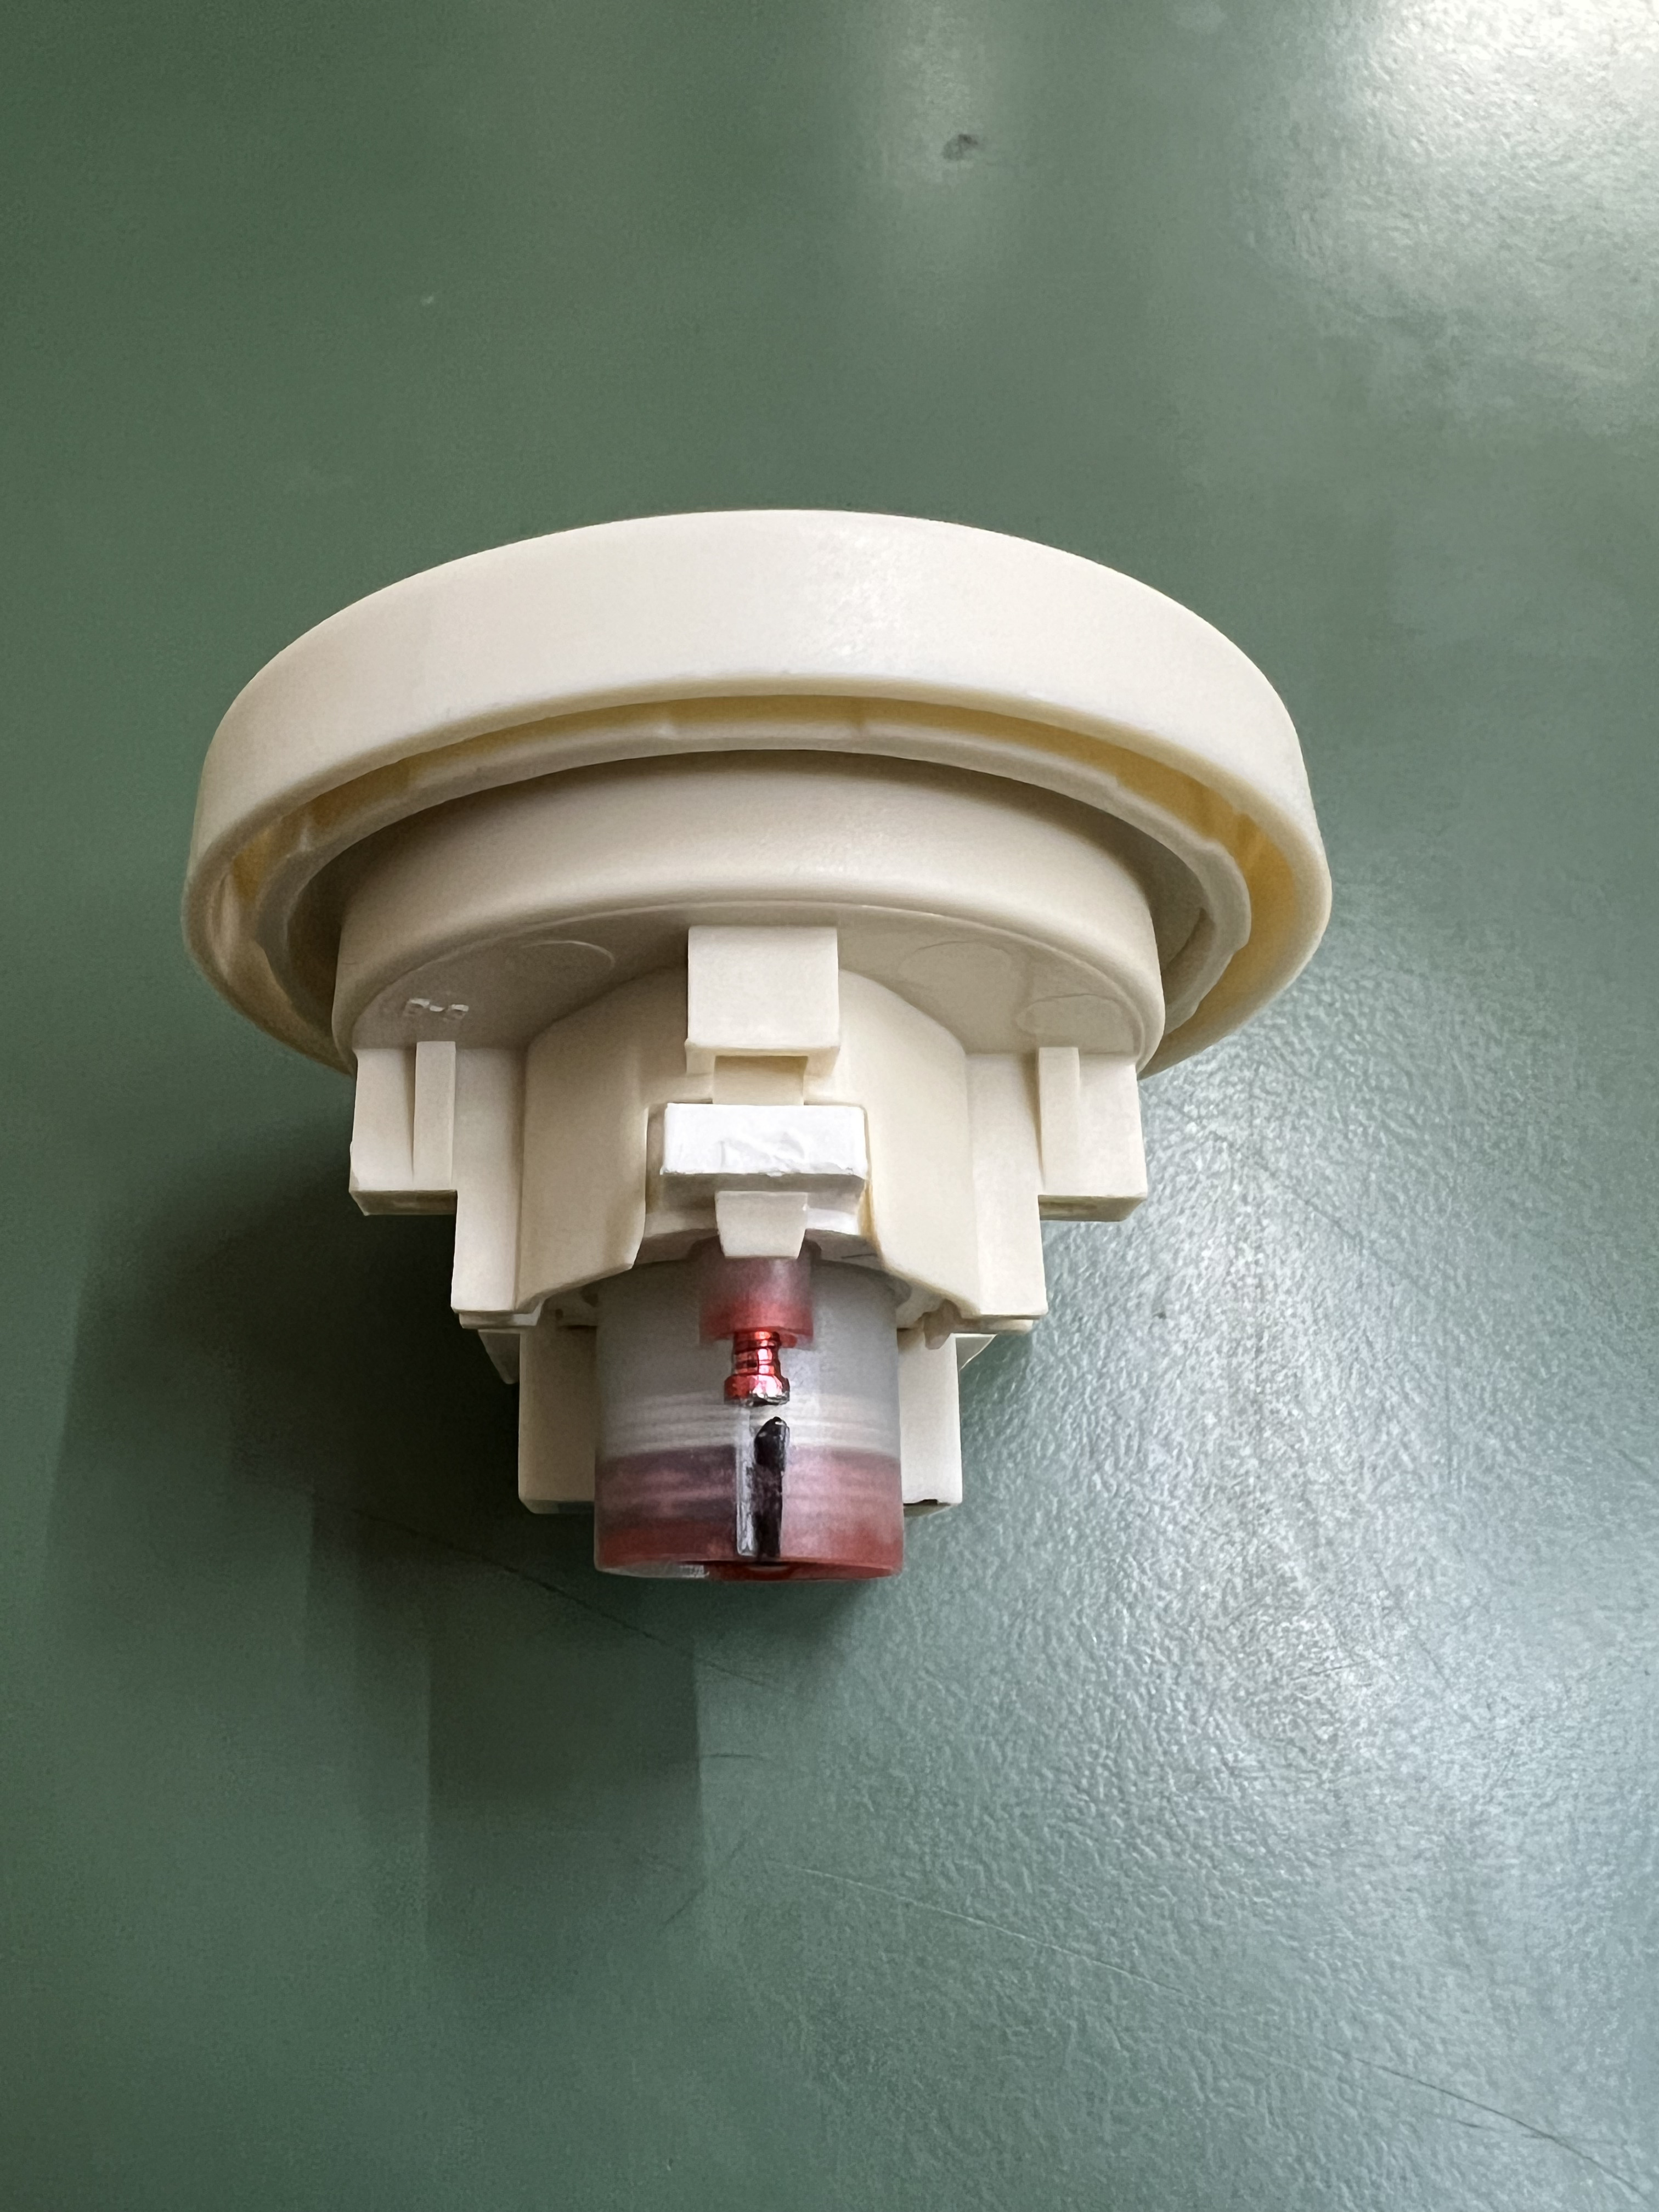pressure_sensor: (122, 486, 1358, 1613)
